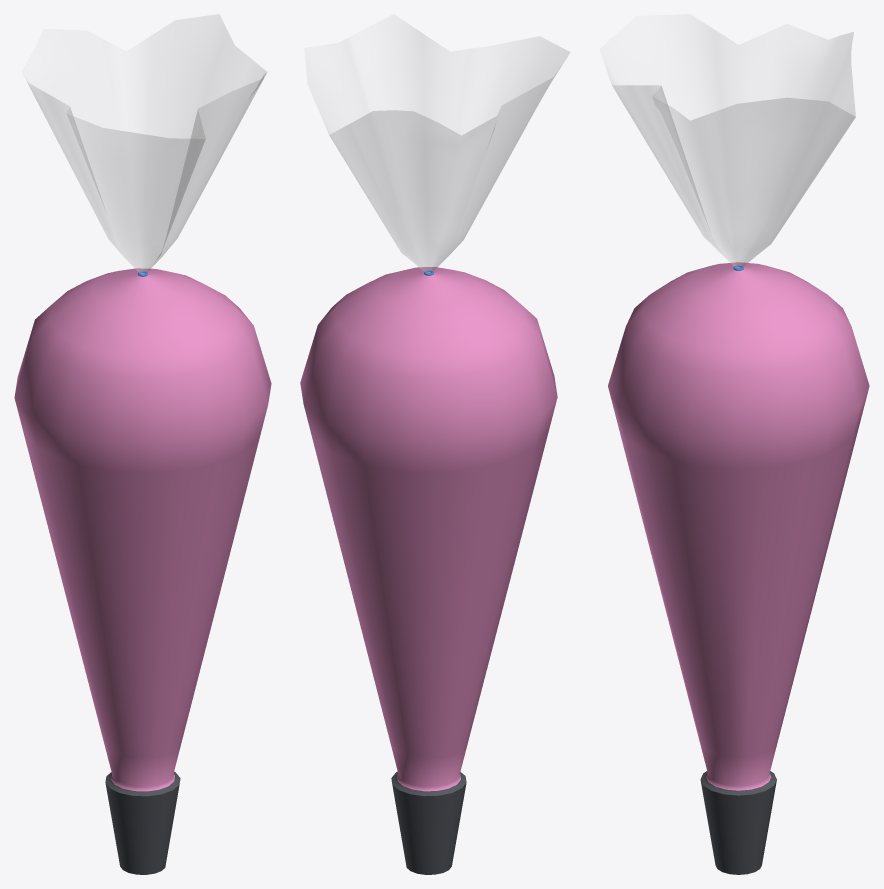
File: MangaPasteleraRosa.fbx
3 renders of one model, left to right at view 1: azimuth 30°, elevation 25°; view 2: azimuth 150°, elevation 25°; view 3: azimuth 270°, elevation 25°, orthographic.
Visible parts, largest first — view 1: Cone; view 2: Cone; view 3: Cone.
Part boxes in pixels (left/top/right/bottom): Cone: left=14, top=14, right=271, bottom=874; Cone: left=300, top=14, right=569, bottom=874; Cone: left=600, top=14, right=869, bottom=874.
Size of the model in its own units: 200 by 689 by 206.
